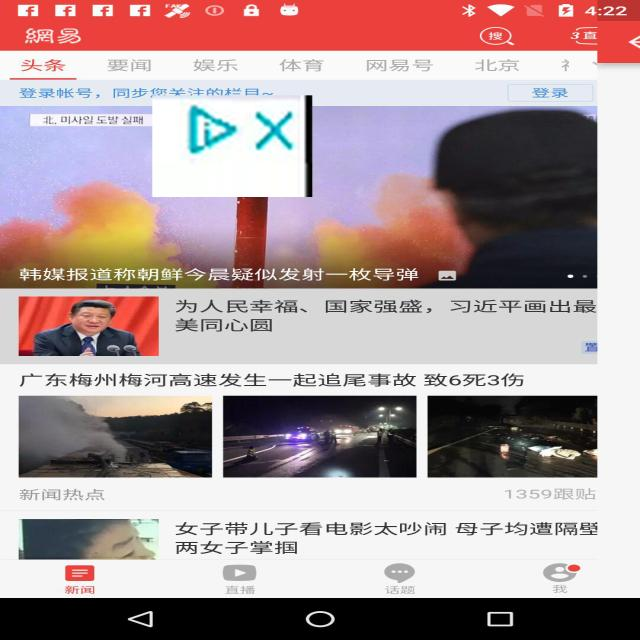sneaking: (152, 95, 312, 197)
